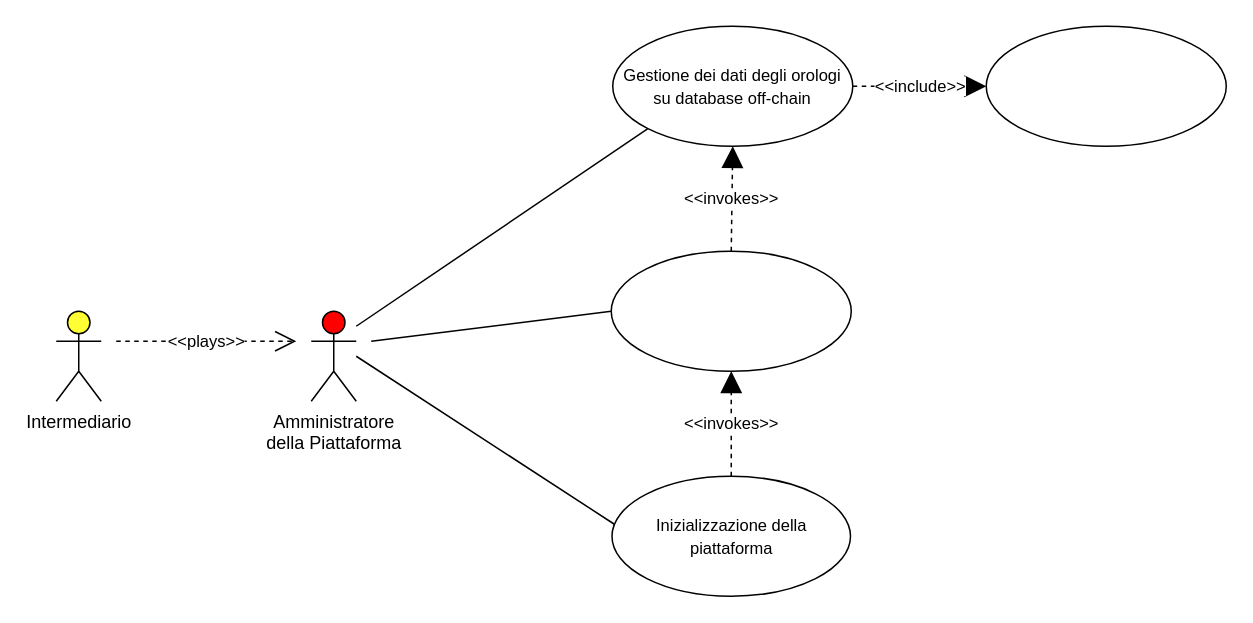
This 1253x623 diagram has some shape labels left out. Here are the shapes that lost their labels. From the top down, the centre of each, then its label:
(1105,85): Training dell’algoritmo di Computer Vision per il rilevamento di anomalie
(730,310): Registrazione su blockchain dei dati di registrazione, vendita e manutenzione
